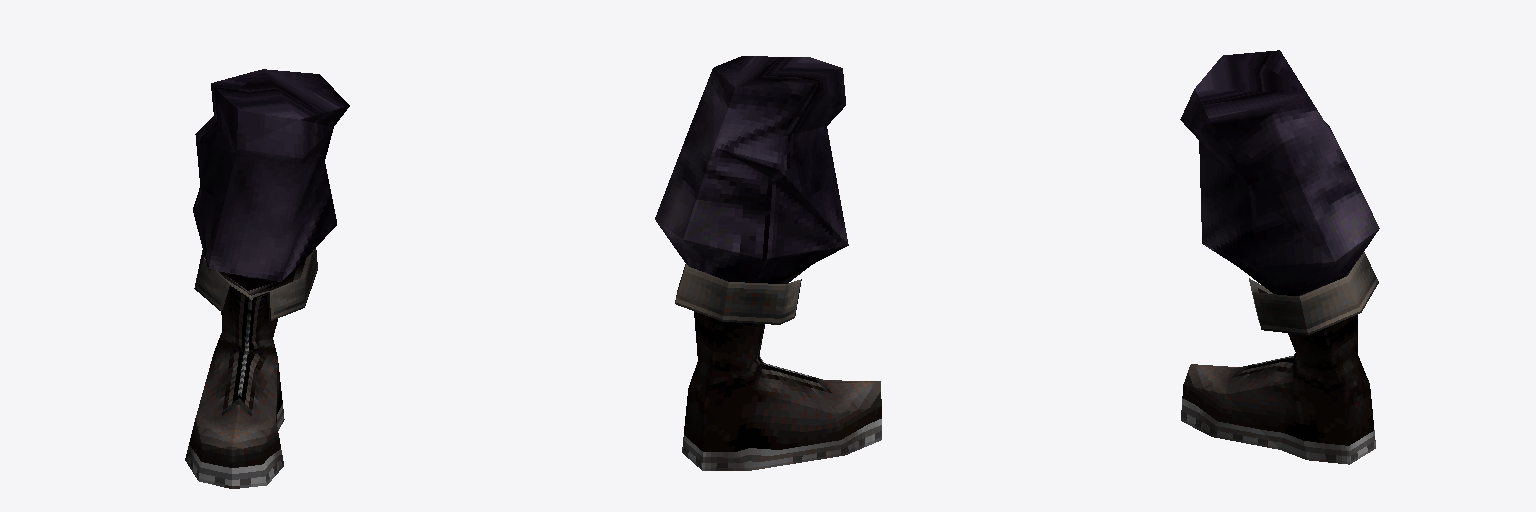
3 renders of one model, left to right at view 1: azimuth 30°, elevation 25°; view 2: azimuth 150°, elevation 25°; view 3: azimuth 270°, elevation 25°, orthographic.
Parts seen in each view (by area): view 1: 0001_r_sym307, 0002_r_sym307; view 2: 0001_r_sym307, 0002_r_sym307; view 3: 0001_r_sym307, 0002_r_sym307.
Part boxes in pixels (x1,y1,x2,y2): 0001_r_sym307: (185,69,349,488); 0002_r_sym307: (194,248,317,320); 0001_r_sym307: (655,56,881,470); 0002_r_sym307: (675,264,801,324); 0001_r_sym307: (1180,50,1379,464); 0002_r_sym307: (1249,252,1378,334).
Size of the model in its own units: 0.1846 by 0.3774 by 0.1859.
Materials: 2 (2 with a texture image).